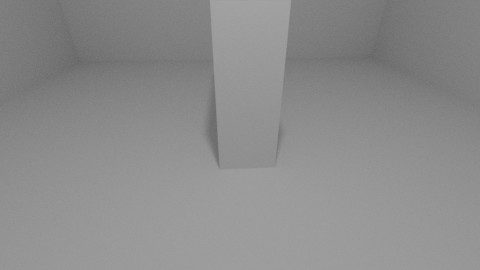cheminee: (210, 1, 291, 170)
